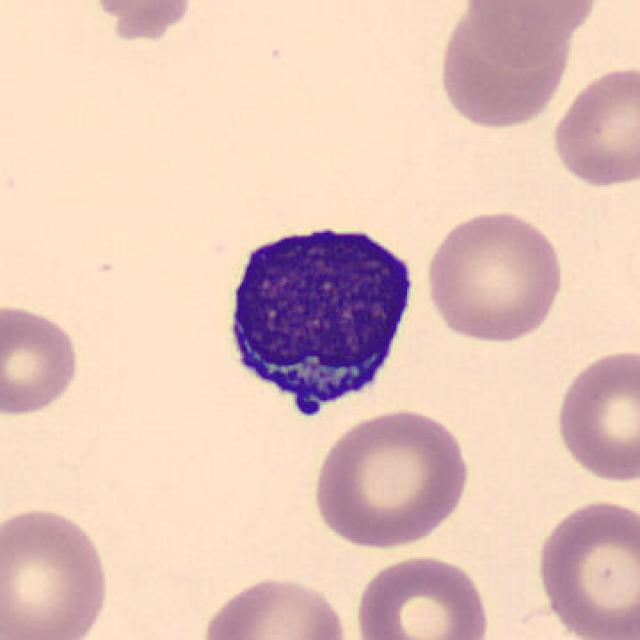Lymphocyte: (208, 206, 425, 434)
RBC: (309, 404, 475, 552), (421, 204, 567, 346), (434, 2, 580, 134), (0, 502, 114, 640), (531, 493, 638, 640), (350, 552, 494, 640), (551, 344, 638, 485), (548, 62, 638, 190), (195, 571, 354, 640), (0, 300, 84, 420), (466, 0, 604, 44), (74, 0, 202, 42)
